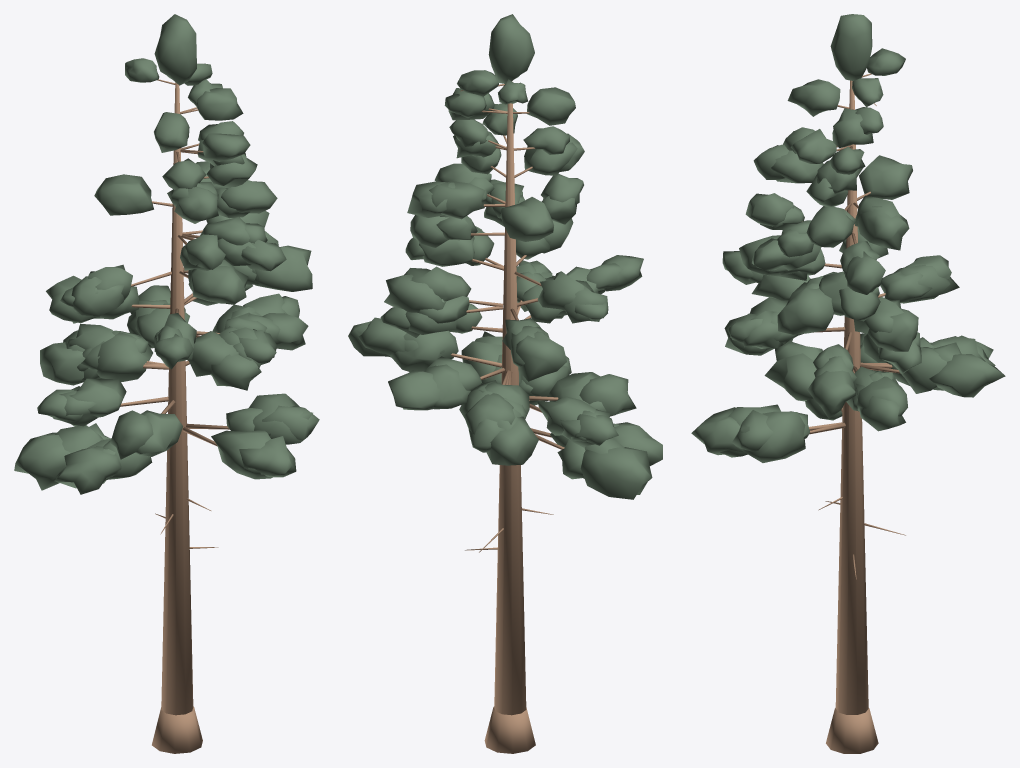
The model's file is Pino_C.fbx.
3 views of the same model, side by side, from view 1: azimuth 30°, elevation 25°; view 2: azimuth 150°, elevation 25°; view 3: azimuth 270°, elevation 25° (orthographic).
Parts seen in each view (by area): view 1: Pino_C_LOD0; view 2: Pino_C_LOD0; view 3: Pino_C_LOD0.
Part boxes in pixels (left/top/right/bottom): Pino_C_LOD0: left=14, top=14, right=319, bottom=753; Pino_C_LOD0: left=348, top=14, right=662, bottom=753; Pino_C_LOD0: left=691, top=14, right=1005, bottom=753.
Size of what is drawn, in the model's own units: 8.7 by 20.94 by 8.18.
